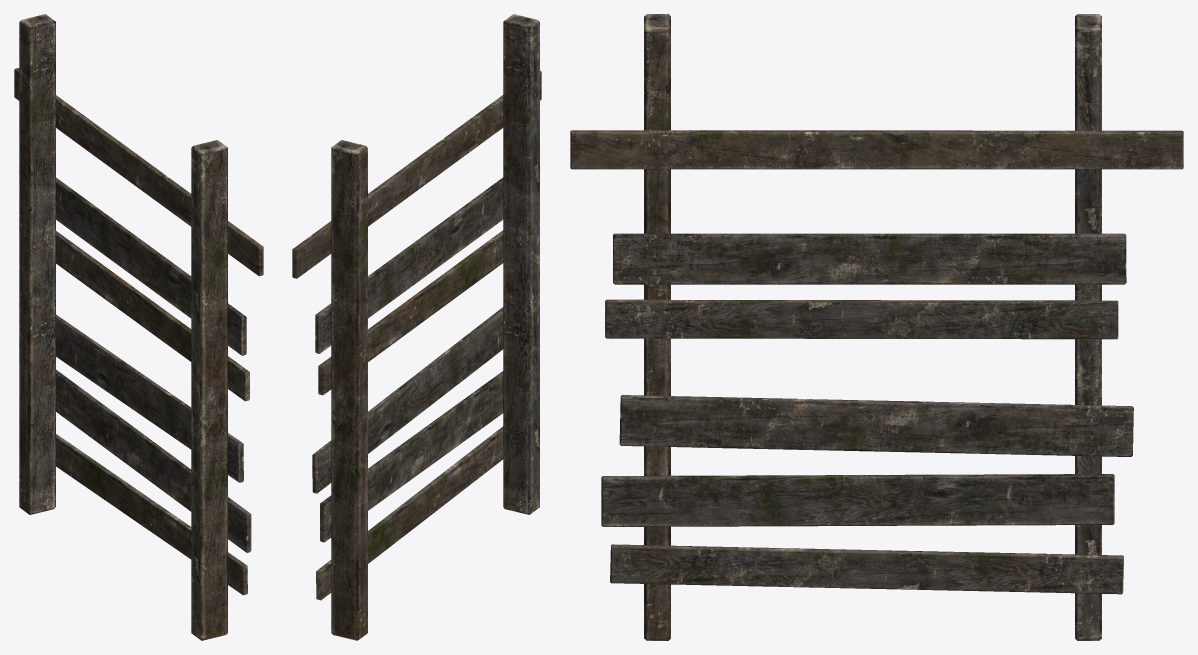
The model's file is Wood_Wall_A.fbx.
3 views of the same model, side by side, from view 1: azimuth 30°, elevation 25°; view 2: azimuth 150°, elevation 25°; view 3: azimuth 270°, elevation 25° (orthographic). The views are drawn at different scales.
Visible parts, largest first — view 1: Wood_Wall_A_LOD0; view 2: Wood_Wall_A_LOD0; view 3: Wood_Wall_A_LOD0.
Boxes of the visible parts, x1,y1,x2,y2 form: Wood_Wall_A_LOD0: (14, 14, 263, 640); Wood_Wall_A_LOD0: (292, 14, 541, 640); Wood_Wall_A_LOD0: (570, 14, 1183, 640).
Size of what is drawn, in the model's own units: 18.07 by 250 by 227.
